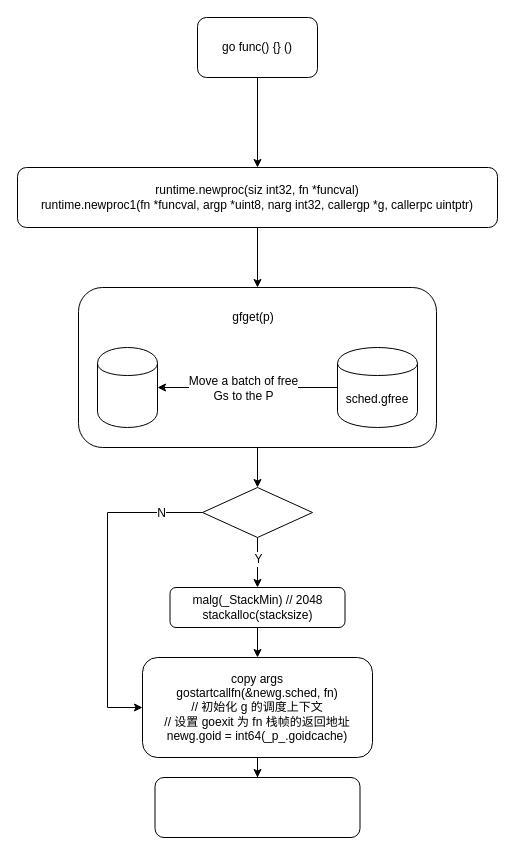
Some shapes in this 515 by 855 pixel diagram are drawn without their labels. The shapes that lost their labels are listed below. From the top down, each one's centre as x and y in pixels, then its label:
At (x=127, y=387): "p.gfree".
At (x=257, y=512): "no free g".
At (x=257, y=807): "runqput(_p_, newg, true) // 将 newg 作为下一个待运行的 g".
